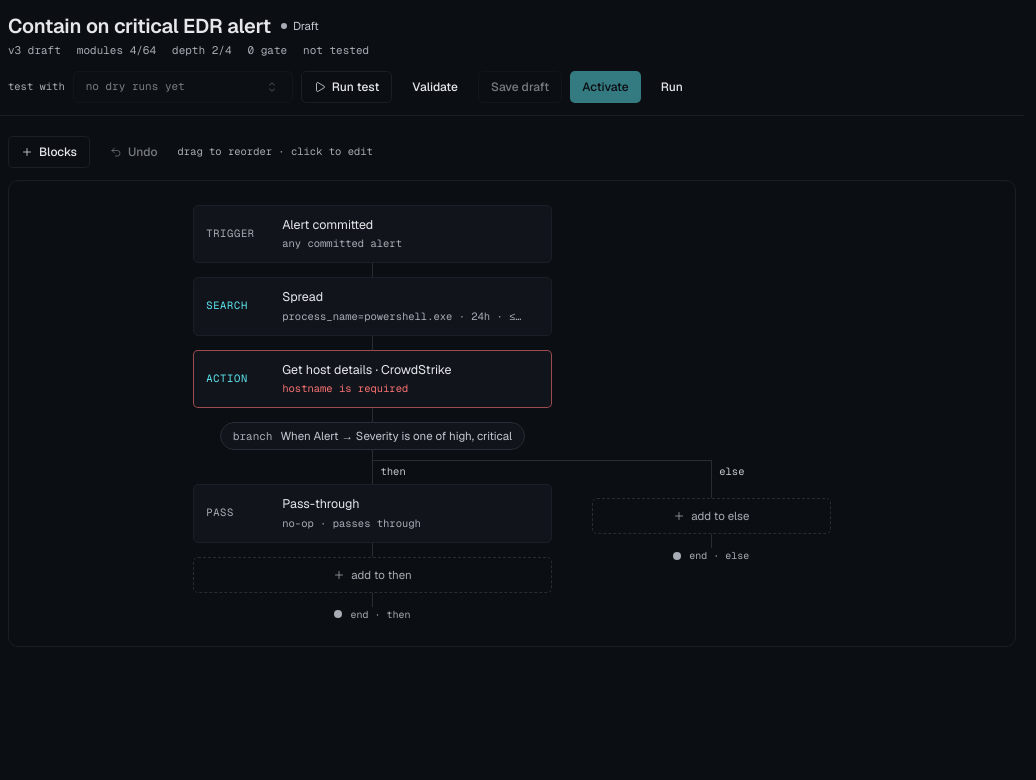
Scenario: branch condition easy mode › canvas label: friendly names for catalog paths, mono raw path otherwise
expect the element with test id "flow-canvas" is shown: met, box [8, 180, 1016, 646]
expect the text "Get host details · CrowdStrike" is shown: met, box [282, 360, 452, 378]
Step 1. Click the button with test id "flow-step" → {"x": 373, "y": 436}, box [220, 422, 525, 450]
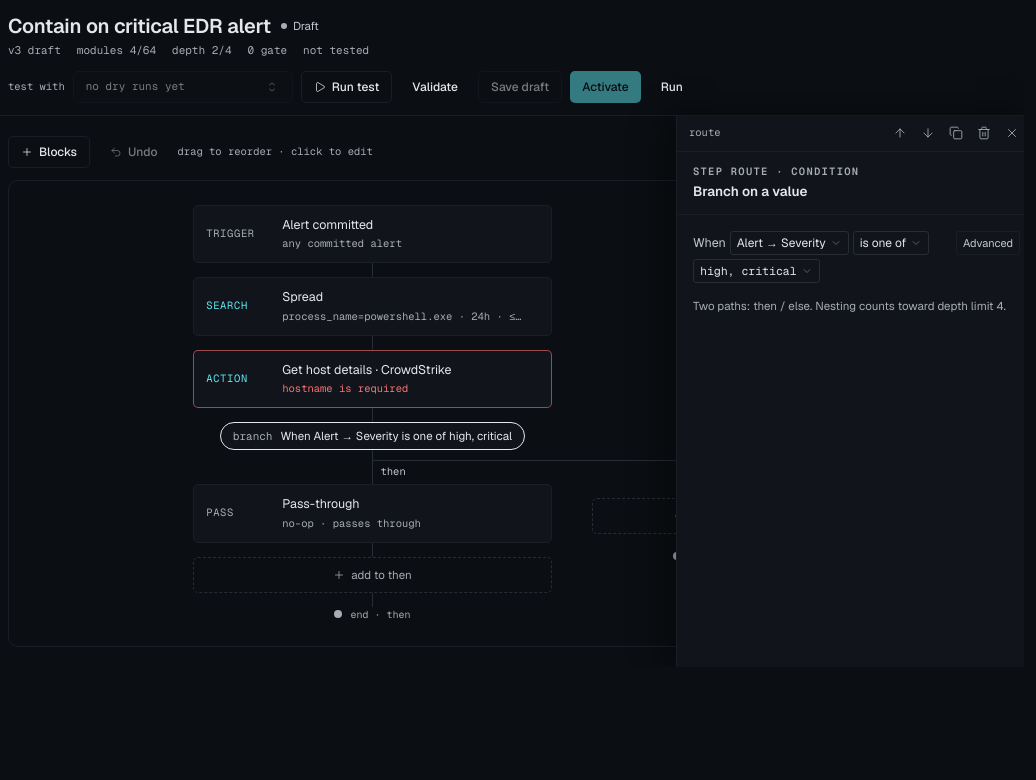
Step 2. Click the button with aria-label "Advanced condition" → {"x": 988, "y": 242}, box [956, 230, 1020, 254]
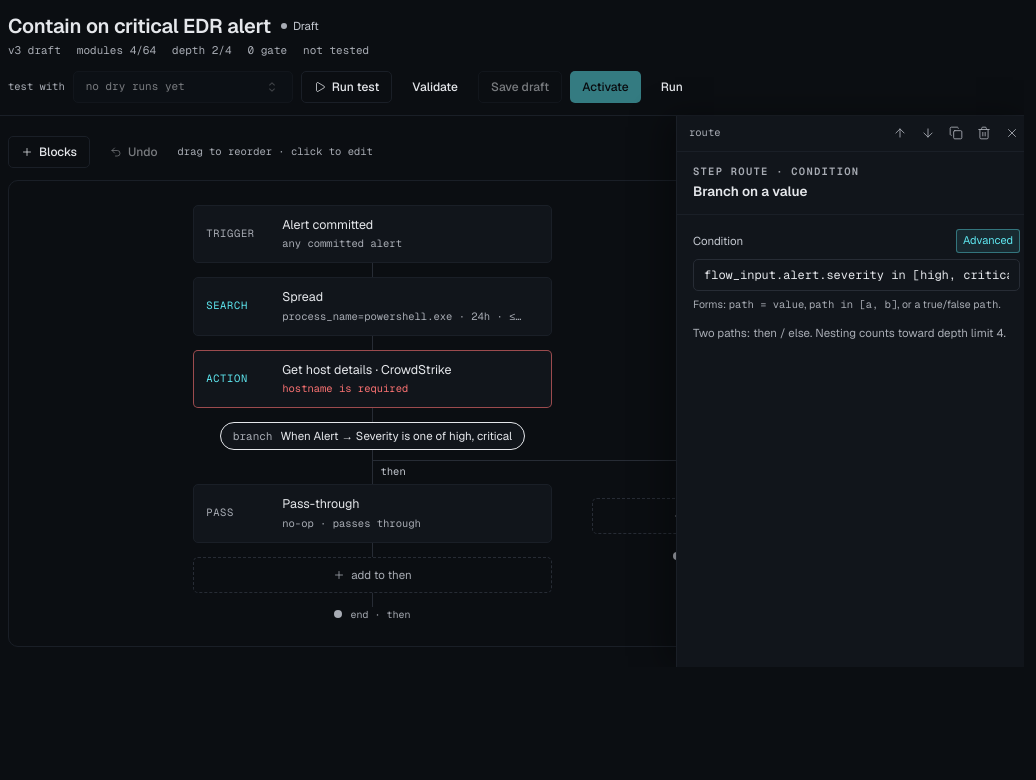
Step 3. Type "flow_input.custom.flag" into the dropdown named "Condition" → {"x": 856, "y": 274}, box [693, 258, 1020, 290]
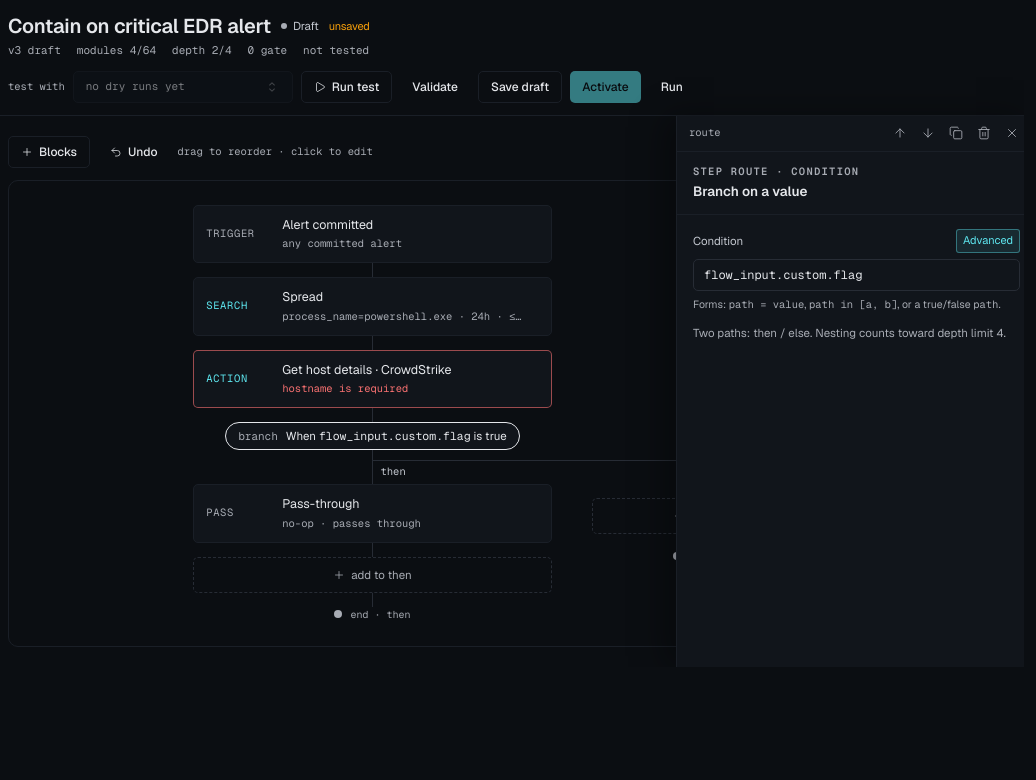
expect the element with test id "branch-sentence" reads "When flow_input.custom.flag is true": met, box [286, 427, 507, 445]
